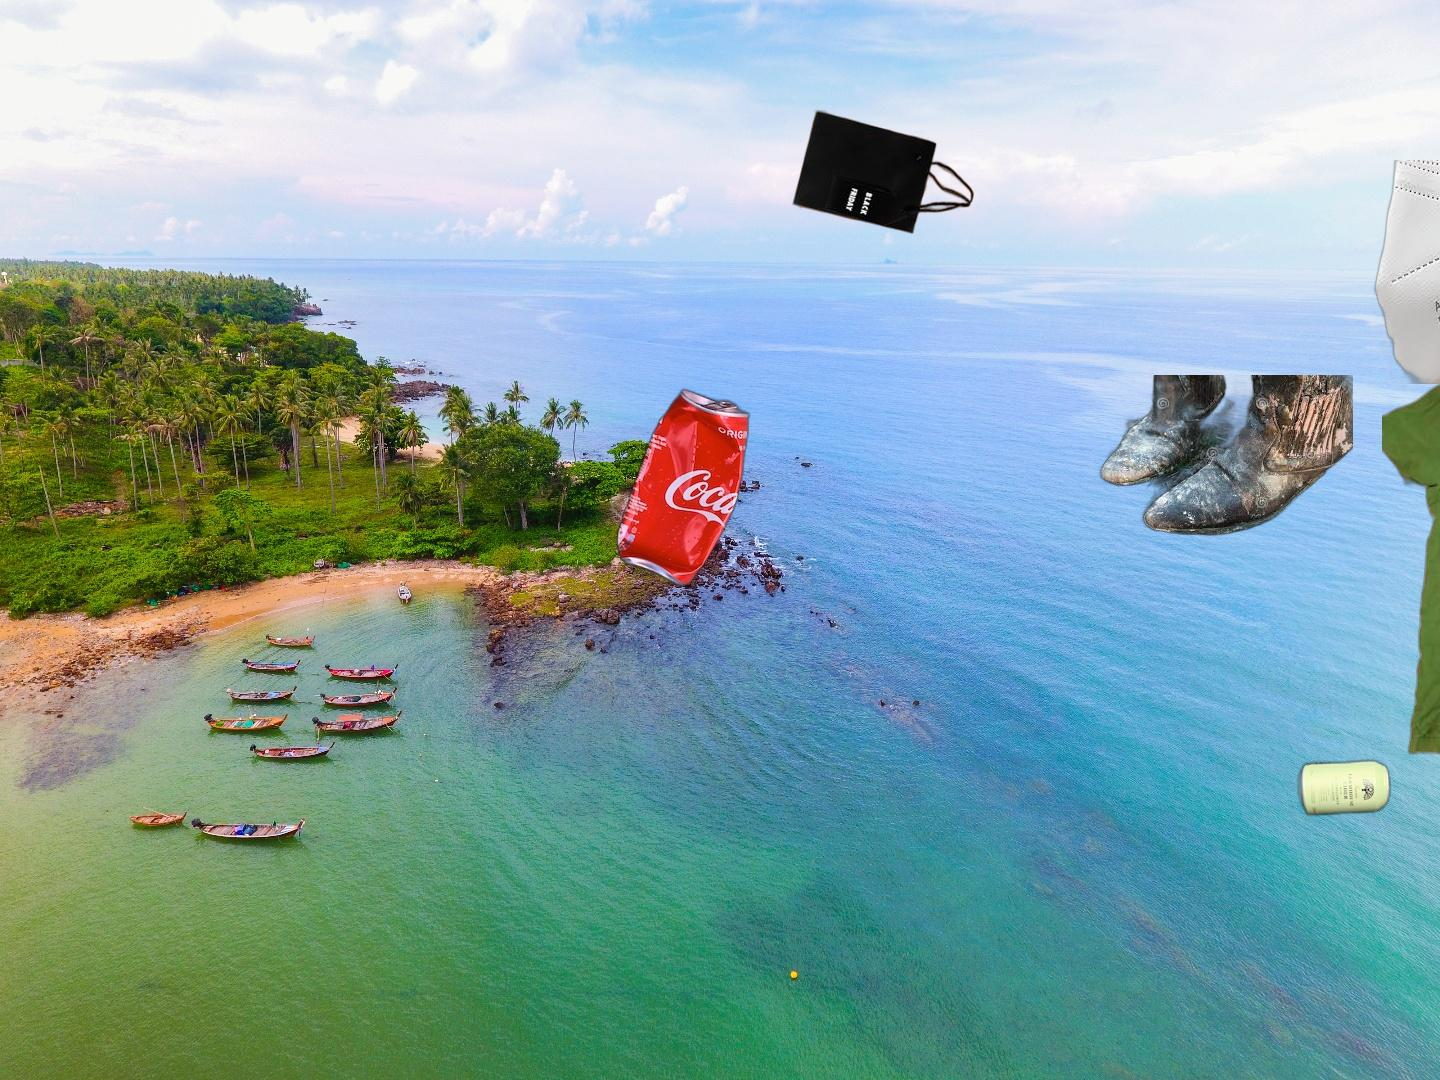clothes: (1382, 341, 1440, 761)
metal-cans: (612, 383, 754, 592), (1294, 754, 1394, 821)
paper-bag: (791, 107, 977, 235)
shoes: (1094, 376, 1353, 538)
trash: (1369, 160, 1440, 383)
